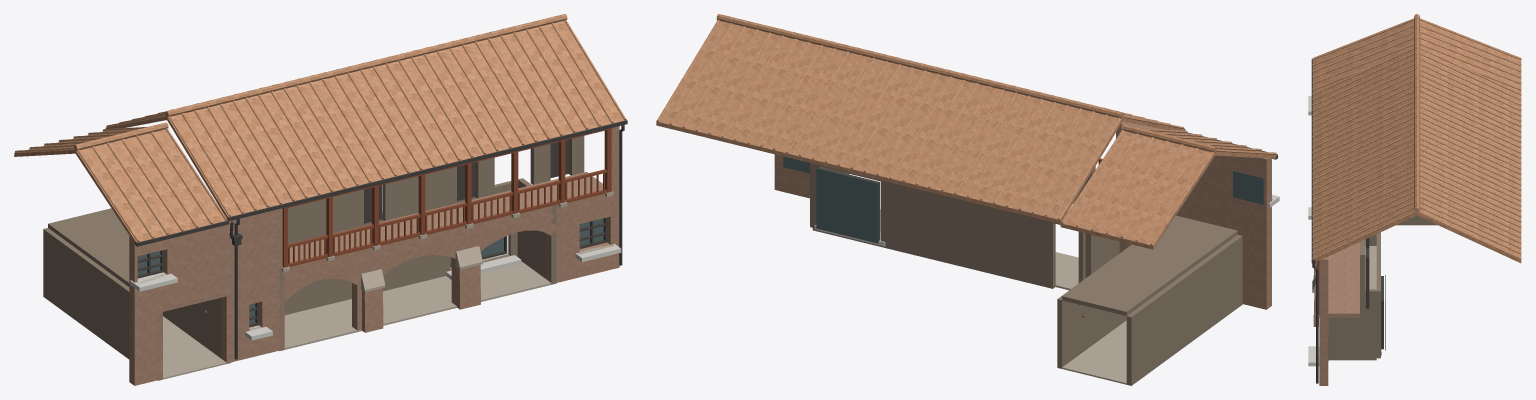
Rendered from changning-sun-ke-villa-annex-gallery-lod.glb.
The picture shows the model from 3 angles, left to right: view 1: azimuth 30°, elevation 25°; view 2: azimuth 150°, elevation 25°; view 3: azimuth 270°, elevation 25°; orthographic projection. The views are drawn at different scales.
Parts seen in each view (by area): view 1: 孙科住宅附楼三券通道与七跨木廊; view 2: 孙科住宅附楼三券通道与七跨木廊; view 3: 孙科住宅附楼三券通道与七跨木廊.
Boxes of the visible parts, x1,y1,x2,y2 form: 孙科住宅附楼三券通道与七跨木廊: (14,14,627,385); 孙科住宅附楼三券通道与七跨木廊: (656,14,1279,385); 孙科住宅附楼三券通道与七跨木廊: (1308,14,1521,385).
Bounding box in the file's own units: 17.49 × 7.2 × 7.75.
Materials: 11 (2 with a texture image).
